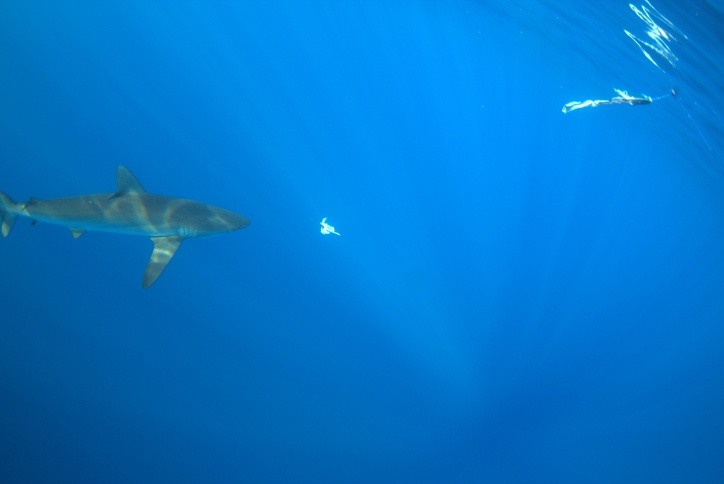Sedoso: (1, 154, 265, 300)
